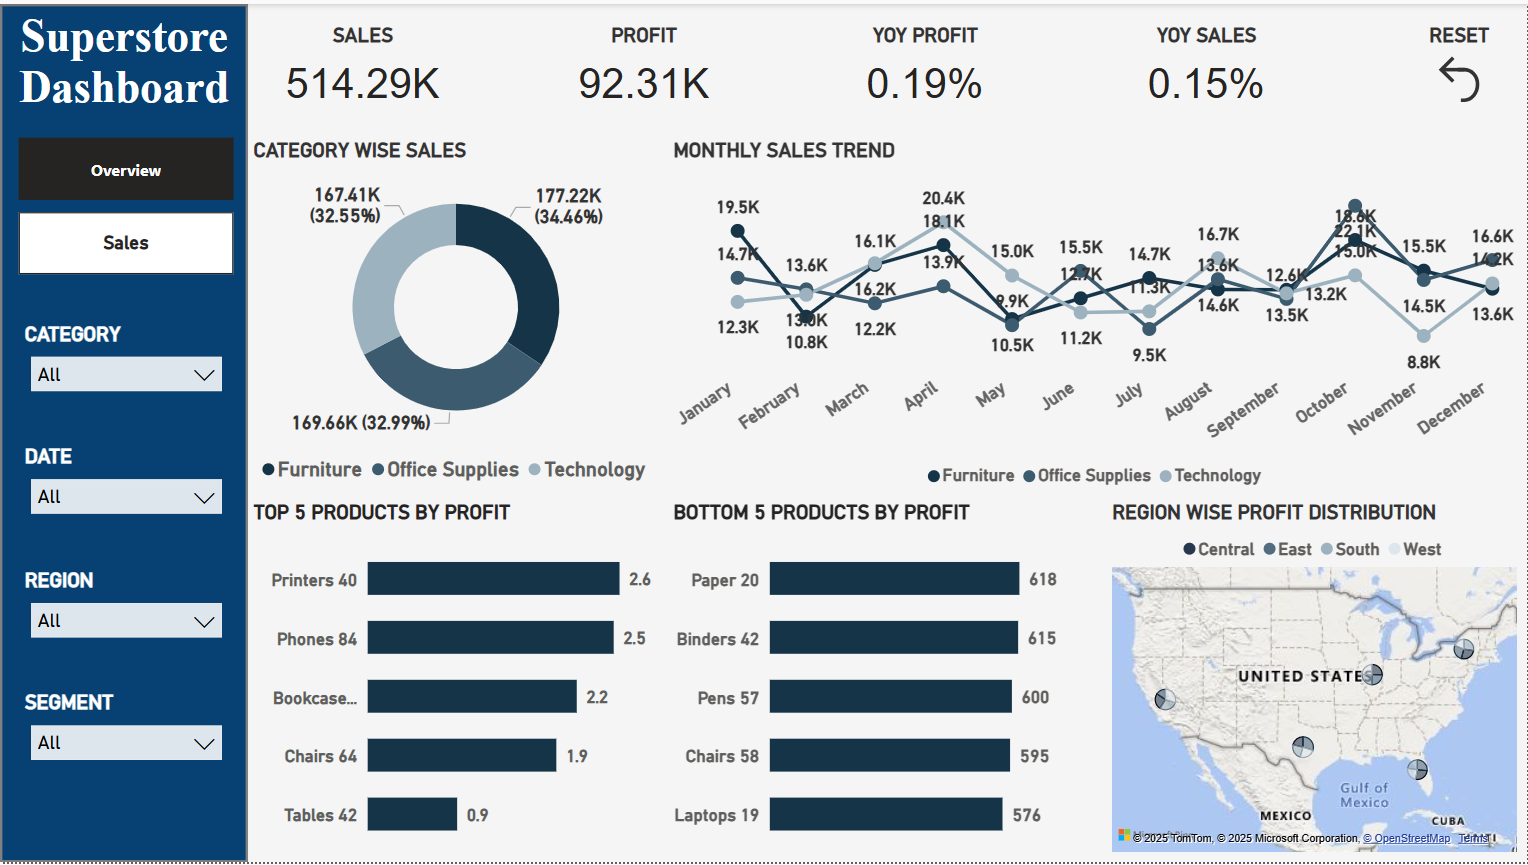

What the dashboard file says about the page in this screenshot:
{"tool":"powerbi","page":{"name":"Overview","canvas":[1280,720],"ordinal":0},"visuals":[{"type":"donutChart","title":"CATEGORY WISE SALES","fields":{"Category":["Superstore.Category"],"Y":["Sum(Superstore.Sales Amount)"]},"box":[208,112,350,300],"z":0},{"type":"shape","box":[0,0,208,720],"z":1000},{"type":"slicer","title":"DATE ","fields":{"Values":["Superstore.Order Date"]},"box":[16,369.5,180,75],"z":2000},{"type":"slicer","title":"CATEGORY","fields":{"Values":["Superstore.Category"]},"box":[16,266.2,180,75],"z":3000},{"type":"slicer","title":"REGION","fields":{"Values":["Superstore.Region"]},"box":[16,472.8,180,75],"z":4000},{"type":"textbox","box":[0,0,208,96],"z":5000},{"type":"slicer","title":"SEGMENT","fields":{"Values":["Superstore.Customer Segment"]},"box":[16,576,180,75],"z":6000},{"type":"actionButton","title":"RESET","box":[1168,16,112,80],"z":7000},{"type":"pageNavigator","box":[16,112,180,115],"z":8000},{"type":"map","title":"REGION WISE PROFIT DISTRIBUTION","fields":{"Category":["Superstore.State"],"Series":["Superstore.Region"],"Size":["Sum(Superstore.Profit)"]},"box":[928,416,350,300],"z":9000},{"type":"lineChart","title":"MONTHLY SALES TREND","fields":{"Category":["Superstore.Order Date.Variation.Date Hierarchy.Month"],"Y":["Sum(Superstore.Sales Amount)"],"Series":["Superstore.Category"]},"box":[560,112,720,304],"z":10000},{"type":"card","title":"SALES","fields":{"Values":["Calculated_Measures.Total_Sales"]},"box":[224,16,160,80],"z":11000},{"type":"card","title":"PROFIT","fields":{"Values":["Calculated_Measures.Total_Profit"]},"box":[460,16,160,80],"z":12000},{"type":"card","title":"YOY PROFIT","fields":{"Values":["Calculated_Measures.Percentage_Profit"]},"box":[696,16,160,80],"z":13000},{"type":"card","title":"YOY SALES","fields":{"Values":["Calculated_Measures.Percentage_Sales"]},"box":[932,16,160,80],"z":14000},{"type":"clusteredBarChart","title":"TOP 5 PRODUCTS BY PROFIT","fields":{"Y":["Calculated_Measures.Total_Profit"],"Category":["Superstore.Product Name"]},"box":[208,416,352,304],"z":16000},{"type":"clusteredBarChart","title":"BOTTOM 5 PRODUCTS BY PROFIT","fields":{"Y":["Calculated_Measures.Total_Profit"],"Category":["Superstore.Product Name"]},"box":[560,416,352,304],"z":17000}]}

Visuals, with their boxes in screenshot pixels (x1, y1, x2, y2), scaled from the page's 1280x720 canvas onto the 1528x865 screenshot:
"CATEGORY WISE SALES" donutChart: [248, 135, 666, 495]
shape: [0, 0, 248, 864]
"DATE " slicer: [19, 444, 234, 534]
"CATEGORY" slicer: [19, 320, 234, 410]
"REGION" slicer: [19, 568, 234, 658]
textbox: [0, 0, 248, 115]
"SEGMENT" slicer: [19, 692, 234, 782]
"RESET" actionButton: [1394, 19, 1527, 115]
pageNavigator: [19, 135, 234, 273]
"REGION WISE PROFIT DISTRIBUTION" map: [1108, 500, 1526, 860]
"MONTHLY SALES TREND" lineChart: [668, 135, 1527, 500]
"SALES" card: [267, 19, 458, 115]
"PROFIT" card: [549, 19, 740, 115]
"YOY PROFIT" card: [831, 19, 1022, 115]
"YOY SALES" card: [1113, 19, 1304, 115]
"TOP 5 PRODUCTS BY PROFIT" clusteredBarChart: [248, 500, 668, 864]
"BOTTOM 5 PRODUCTS BY PROFIT" clusteredBarChart: [668, 500, 1089, 864]
